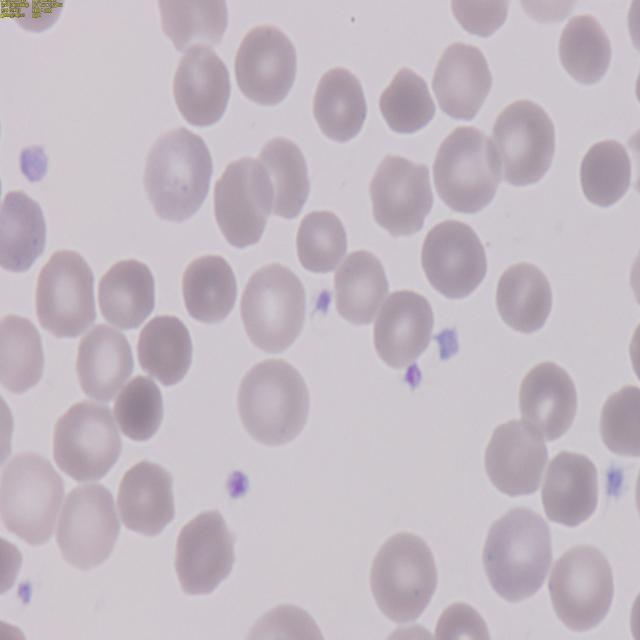Platelets: (431, 324, 461, 362), (600, 464, 628, 501)
RBC: (143, 126, 217, 230), (481, 504, 553, 608), (235, 356, 312, 451), (368, 530, 442, 628), (430, 125, 505, 220), (0, 451, 67, 554), (238, 263, 309, 359), (52, 480, 122, 576), (548, 540, 618, 634), (419, 213, 492, 302), (488, 96, 558, 188), (52, 400, 125, 488), (232, 22, 302, 110), (31, 249, 100, 338), (172, 510, 240, 600), (481, 414, 548, 504), (368, 154, 436, 240), (516, 358, 582, 446), (372, 290, 440, 375), (170, 42, 236, 128), (213, 154, 270, 252), (114, 461, 178, 542), (434, 40, 494, 126), (254, 138, 314, 222), (540, 448, 602, 528), (74, 324, 136, 404), (310, 66, 370, 146), (92, 258, 158, 330), (494, 262, 554, 339), (182, 251, 240, 326), (0, 188, 50, 275), (334, 252, 389, 330), (558, 15, 614, 91), (377, 68, 436, 140), (136, 318, 196, 388), (0, 312, 47, 398), (156, 0, 228, 54), (292, 210, 348, 276), (238, 604, 332, 640), (595, 385, 640, 460), (448, 0, 518, 42), (430, 604, 498, 640), (512, 0, 586, 24)
Spherocyte: (577, 140, 636, 215), (115, 373, 166, 445)
